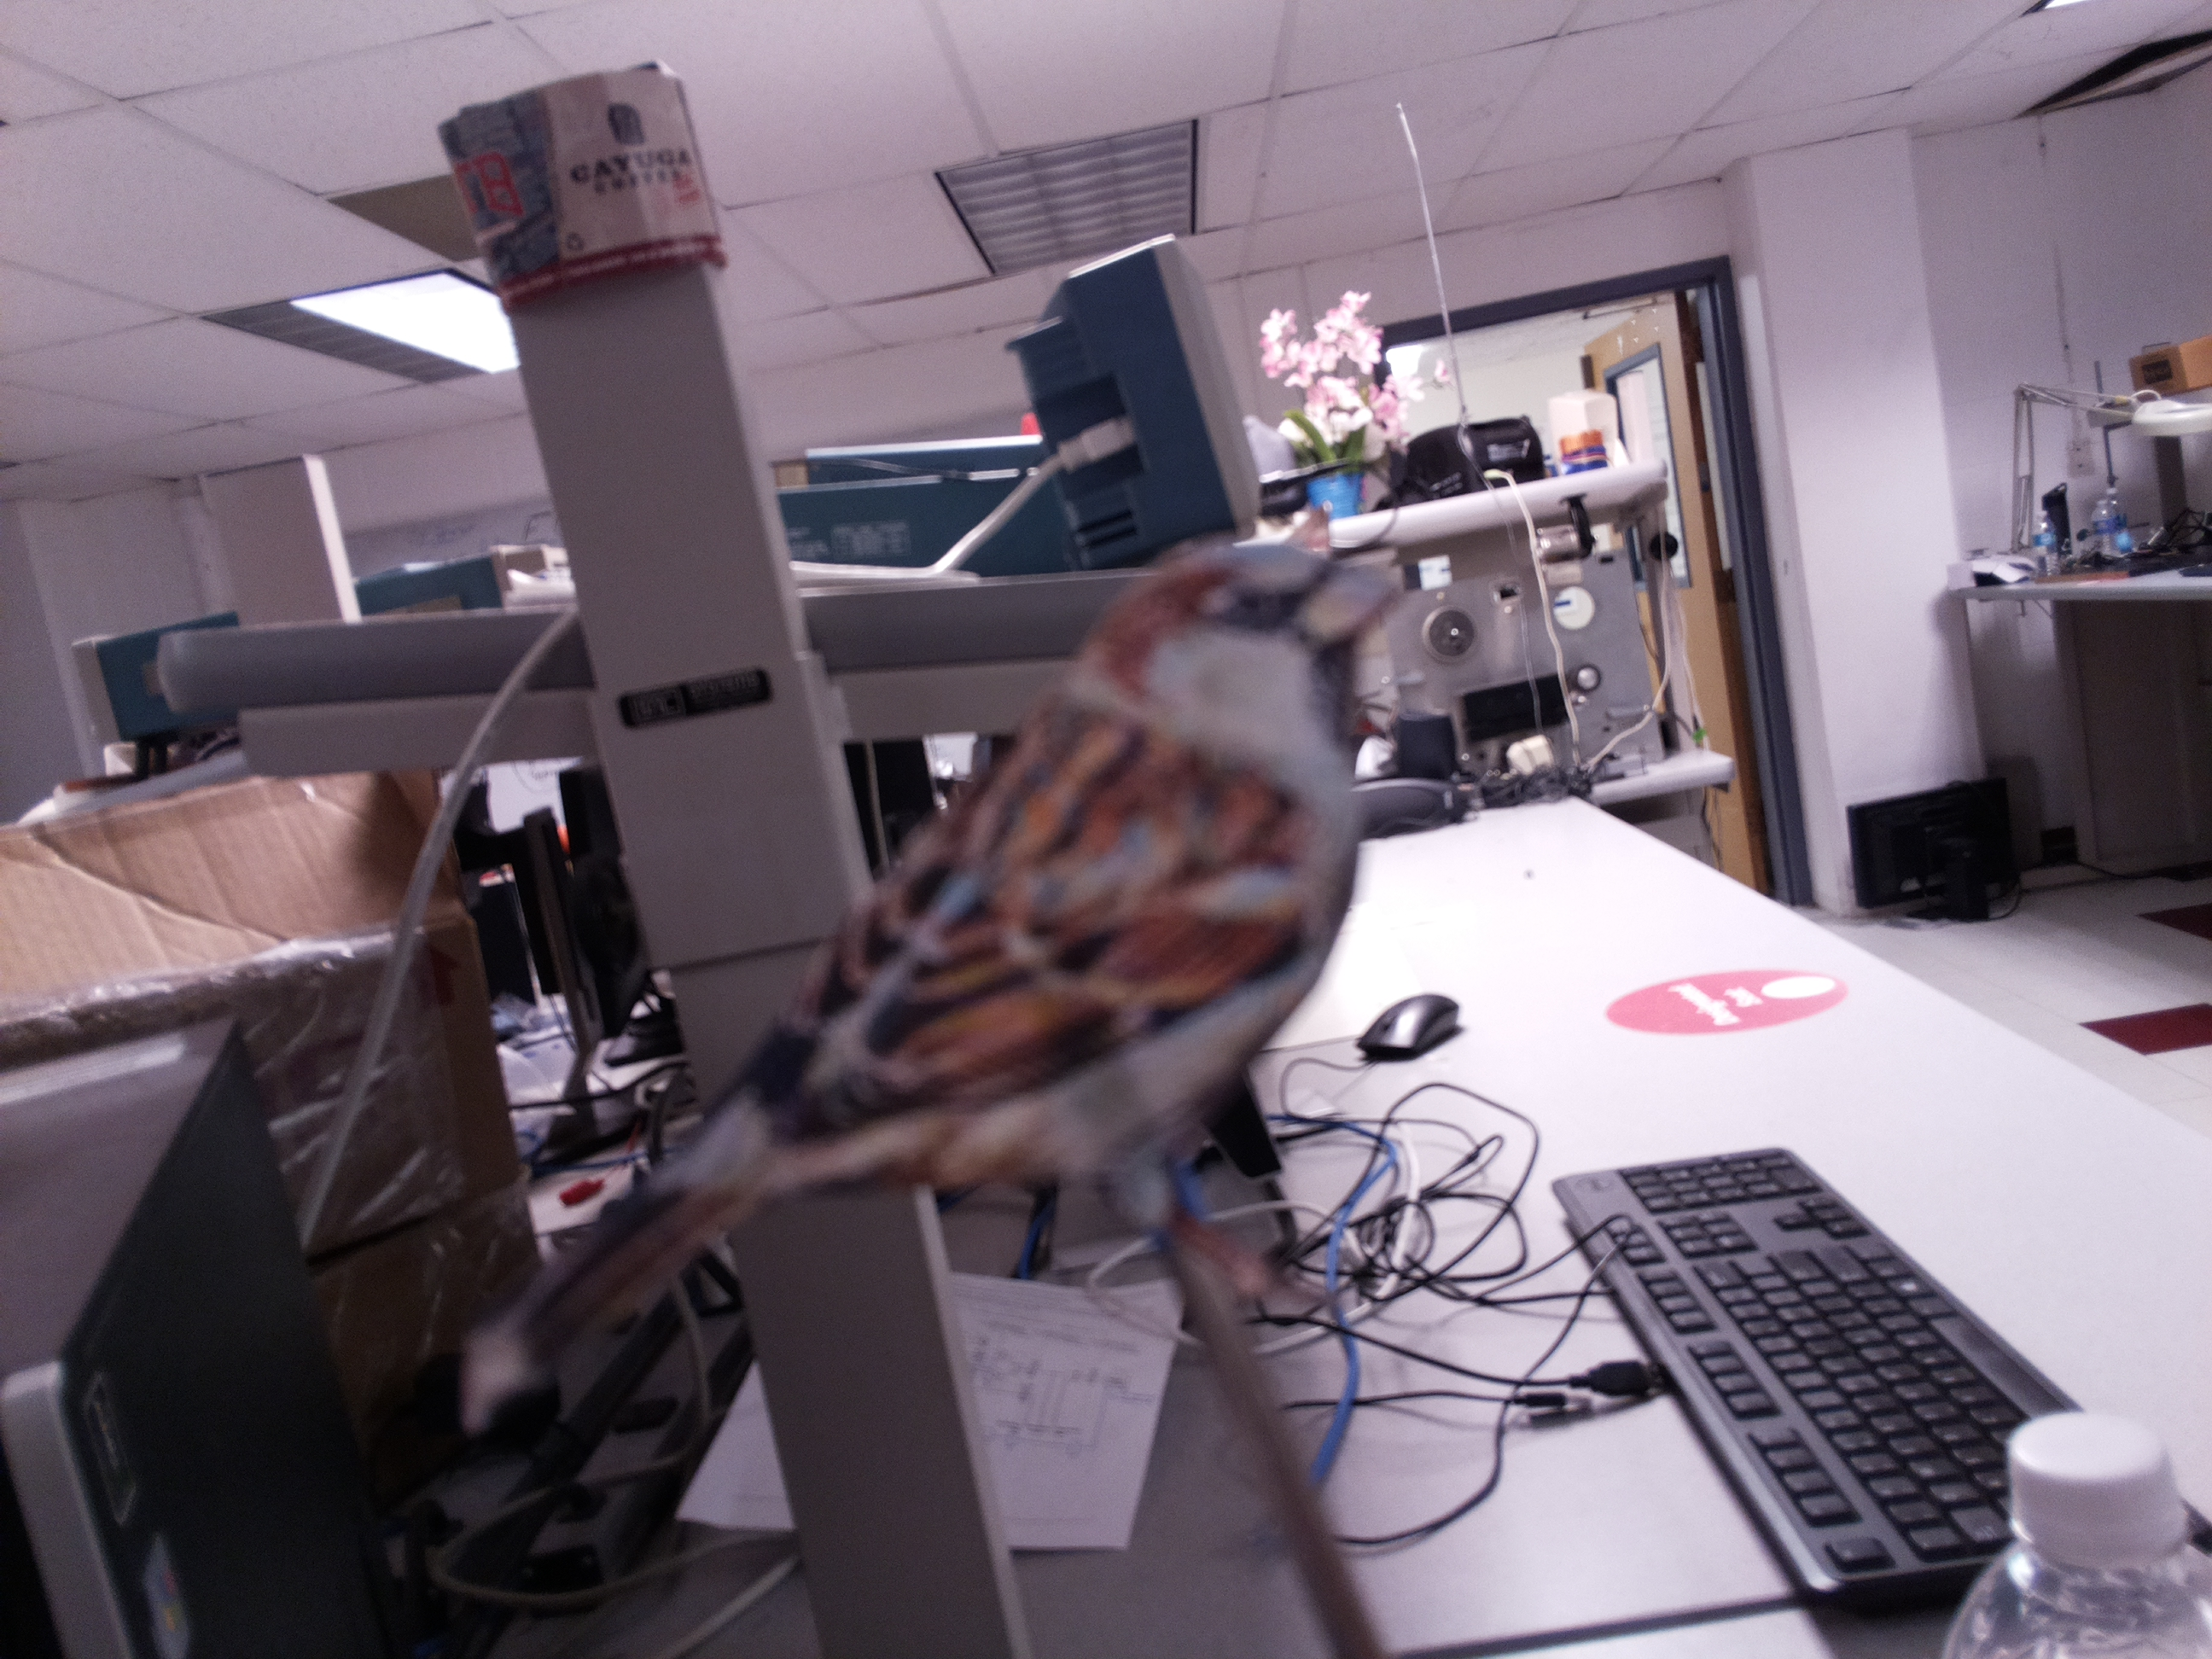bird: (514, 537, 1406, 1377)
